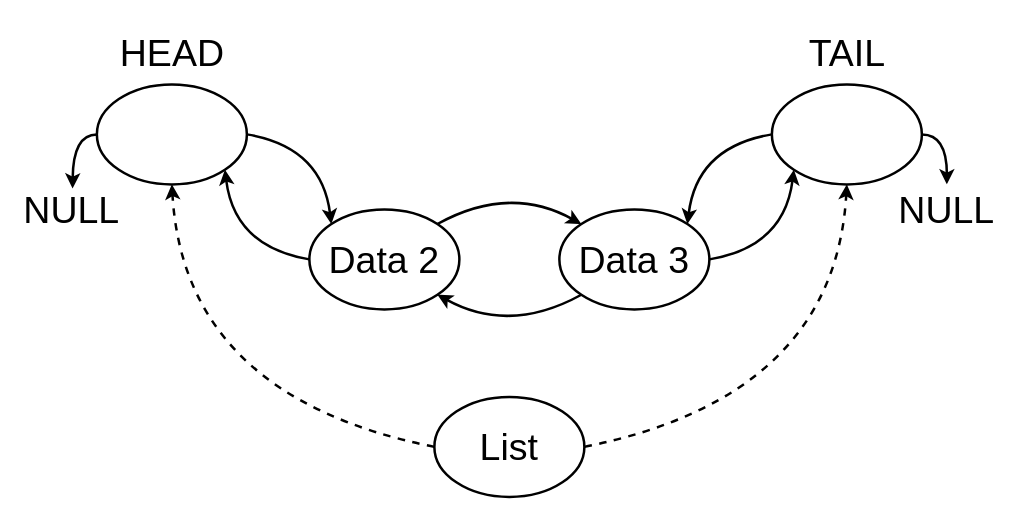
This 1018x519 diagram has some shape labels left out. Here are the shapes that lost their labels. From the top down, the centre of each, then its label:
(171,133): Data 1
(846,133): Data 4
